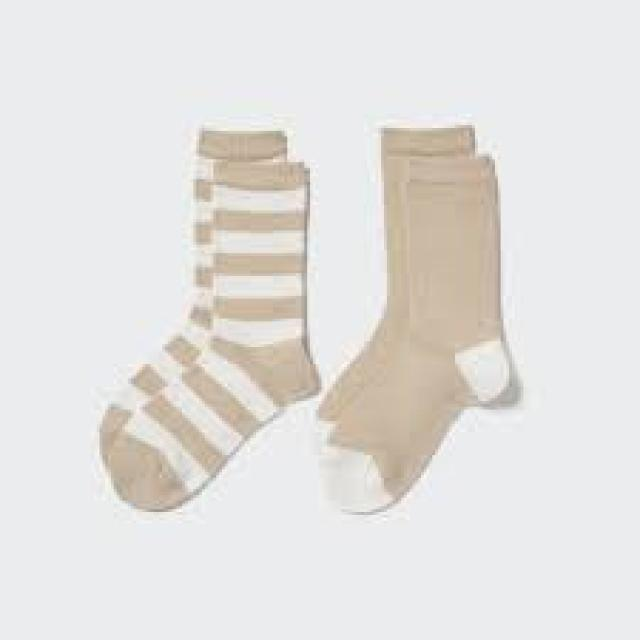sock: (97, 122, 321, 512), (313, 122, 518, 515)
